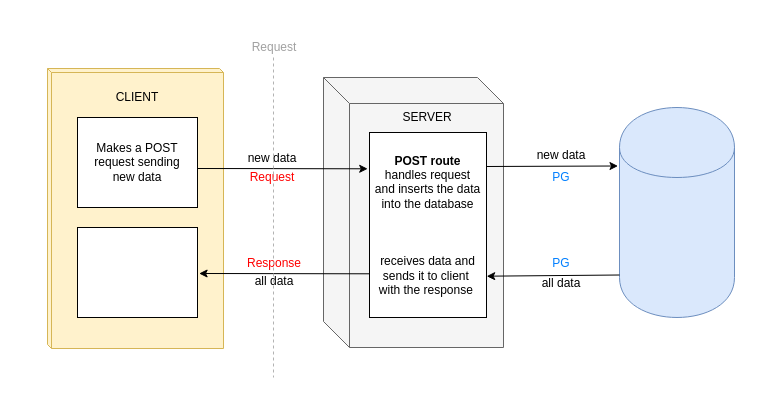
Some shapes in this 774 by 414 pixel diagram are drawn without their labels. The box of each missing label's shape, as (x1, y1, x2, y2) in pixels:
DATABASE: (618, 106, 734, 318)
Receives the updated data: (76, 226, 198, 318)
